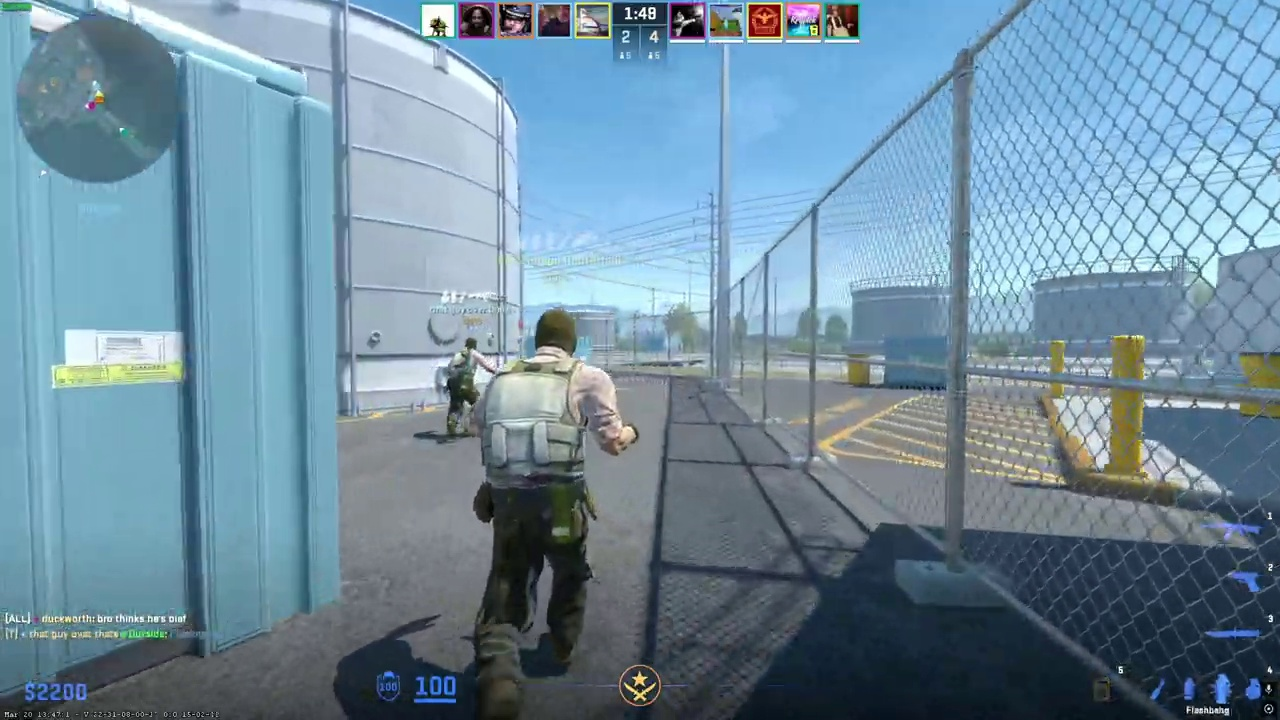Terrorist: (468, 309, 624, 706), (446, 337, 484, 438)
